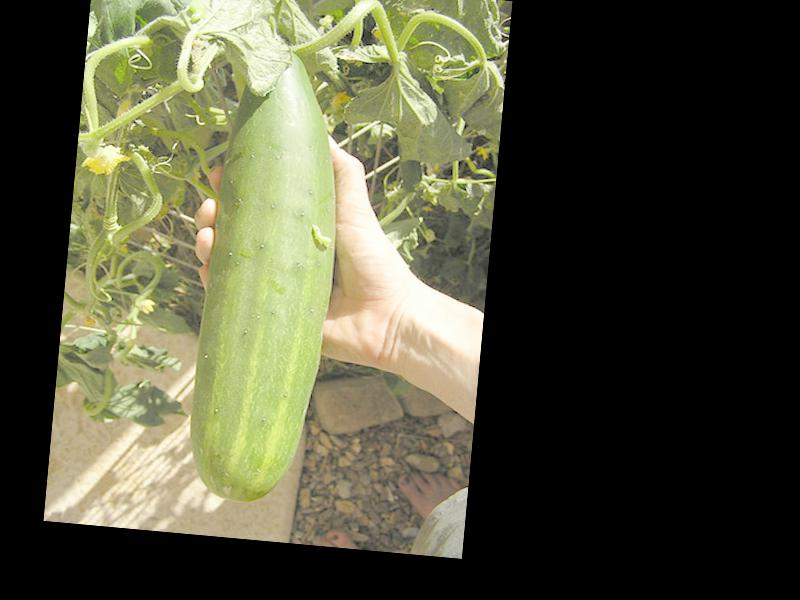Cucumber: (182, 40, 352, 508)
